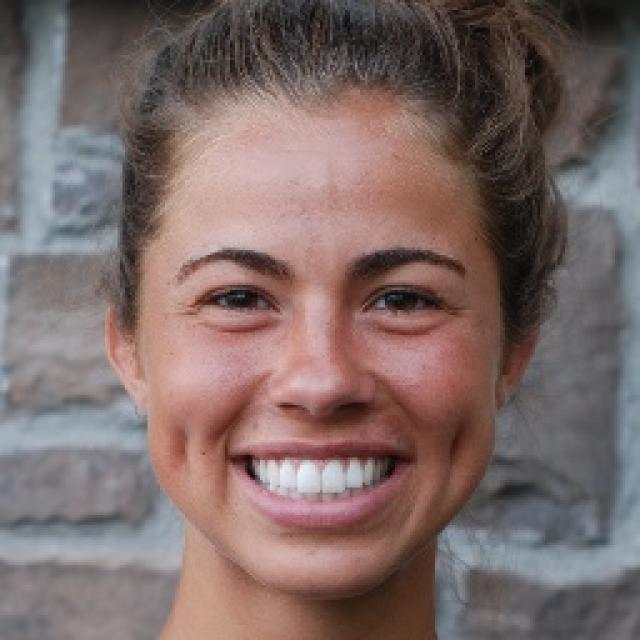earlobe: (496, 356, 523, 410), (124, 366, 150, 416)
eye: (367, 286, 444, 317), (205, 286, 273, 312)
nose: (266, 392, 376, 456)
wholeear: (104, 299, 150, 416), (497, 296, 540, 410)
